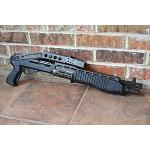Senapan: (6, 42, 148, 110)
